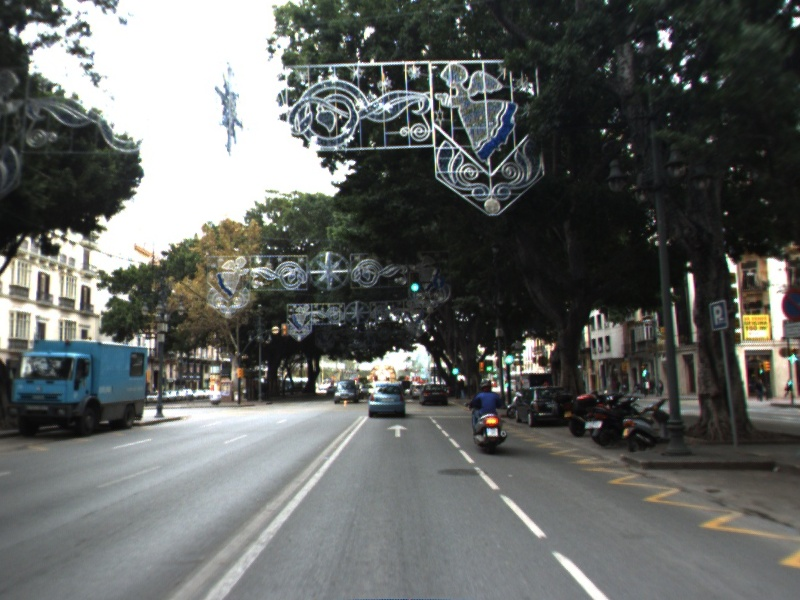STRAIGHT: (385, 422, 409, 439)
